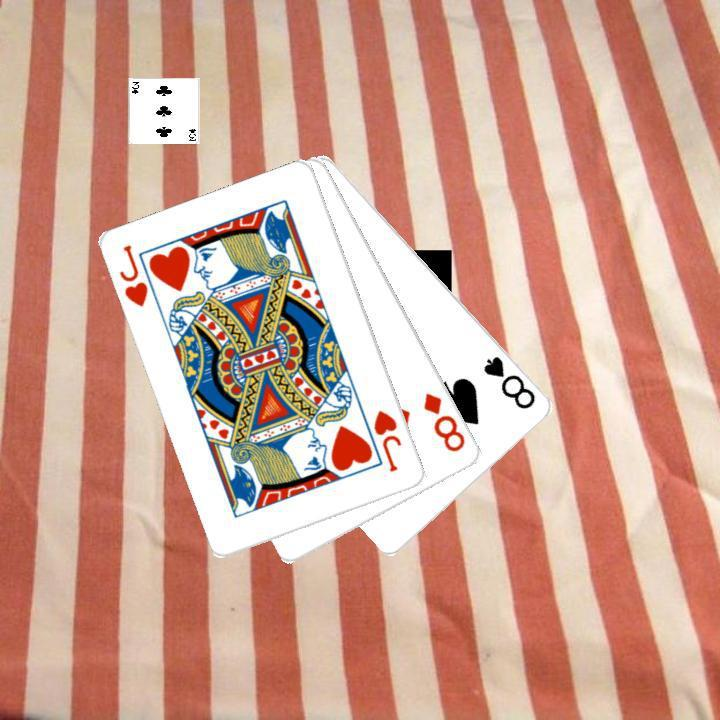8: (479, 351, 538, 411), (419, 388, 468, 454)
J: (116, 240, 151, 309), (370, 406, 404, 474)
